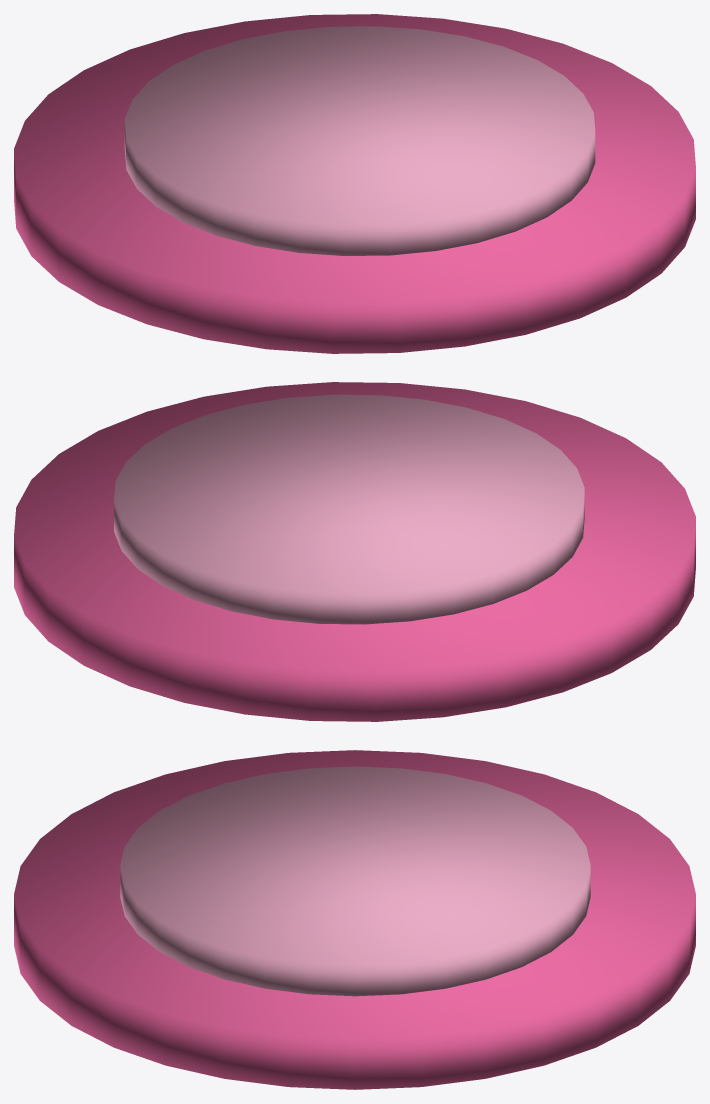
Rendered from pinkPlate.fbx.
3 renders of one model, top to bottom at view 1: azimuth 30°, elevation 25°; view 2: azimuth 150°, elevation 25°; view 3: azimuth 270°, elevation 25°, orthographic.
Parts seen in each view (by area): view 1: Cylinder, Cylinder.001; view 2: Cylinder, Cylinder.001; view 3: Cylinder, Cylinder.001.
Boxes of the visible parts, x1,y1,x2,y2 form: Cylinder: [14, 14, 695, 353]; Cylinder.001: [124, 26, 595, 255]; Cylinder: [14, 382, 695, 721]; Cylinder.001: [114, 394, 584, 624]; Cylinder: [14, 750, 695, 1089]; Cylinder.001: [120, 766, 590, 996].
Bounding box in the file's own units: 120 × 16.01 × 120.
